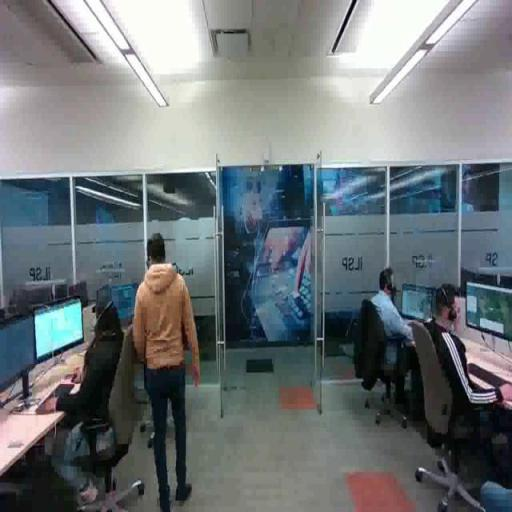person: (136, 228, 205, 508)
